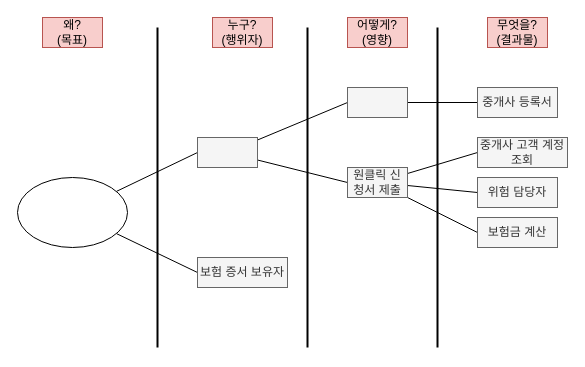
This 585x367 diagram has some shape labels left out. The shapes that lost their labels are listed below. From the top down, each one's centre as x and y in pixels, then its label:
At [377,102]: "중개사 등록".
At [227,152]: "중개사".
At [72,212]: "화이트 레이블 자동차 보험".
